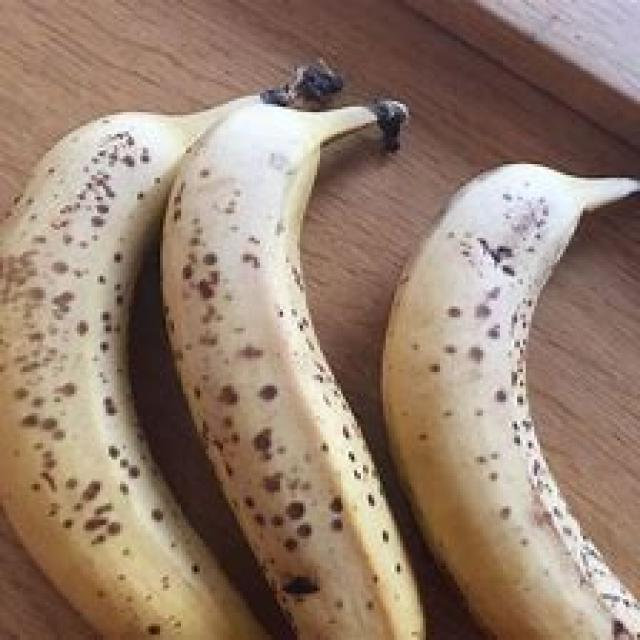Banana: (168, 95, 448, 640), (0, 66, 265, 640), (384, 154, 640, 640)
